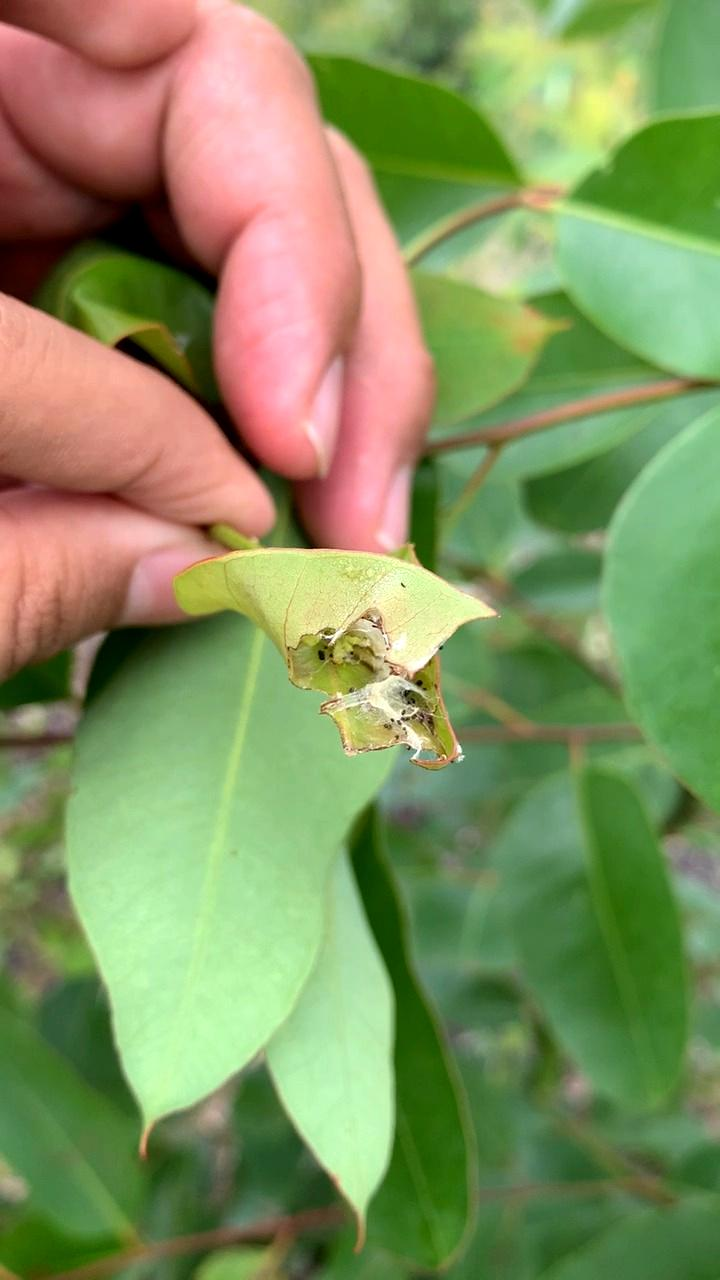Leaf Roller - Leaf: (203, 530, 467, 785)
